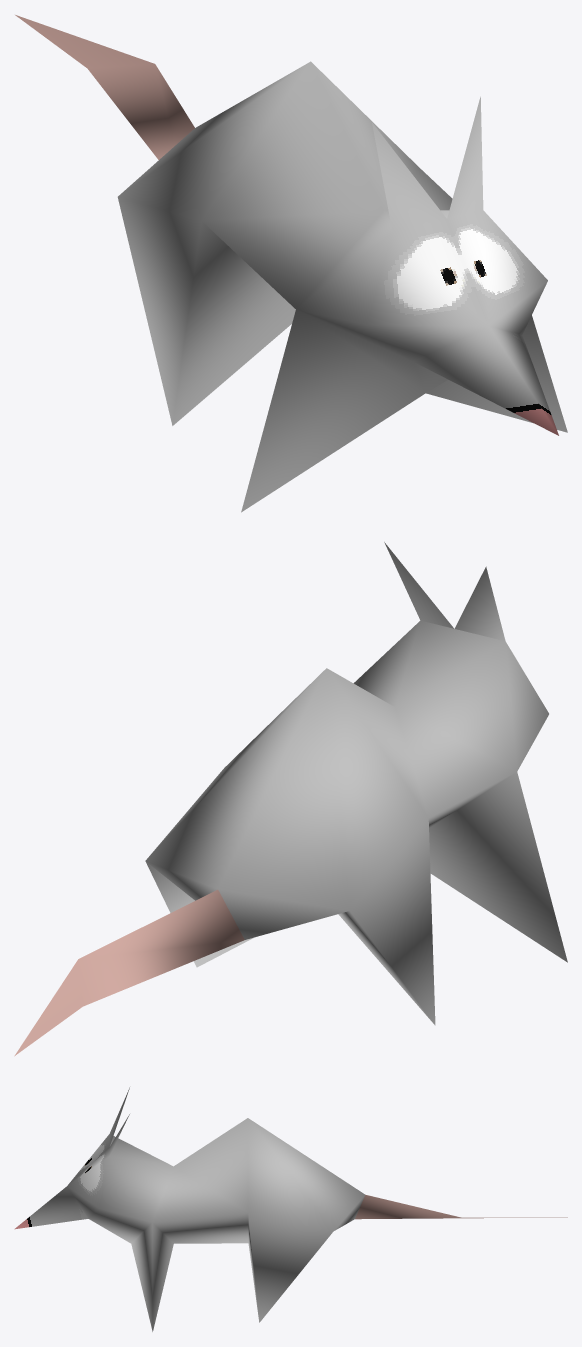
File: rat.obj
The picture shows the model from 3 angles, top to bottom: view 1: azimuth 30°, elevation 25°; view 2: azimuth 150°, elevation 25°; view 3: azimuth 270°, elevation 25°; orthographic projection. The views are drawn at different scales.
Visible parts, largest first — view 1: Shape_IndexedFaceSet.539; view 2: Shape_IndexedFaceSet.539; view 3: Shape_IndexedFaceSet.539.
Part boxes in pixels (box(x1,y1,x2,y2)): Shape_IndexedFaceSet.539: box(15, 15, 567, 512); Shape_IndexedFaceSet.539: box(14, 542, 567, 1056); Shape_IndexedFaceSet.539: box(14, 1087, 567, 1331).
Bounding box in the file's own units: 0.1662 × 0.1846 × 0.48.
Materials: 1 (1 with a texture image).
